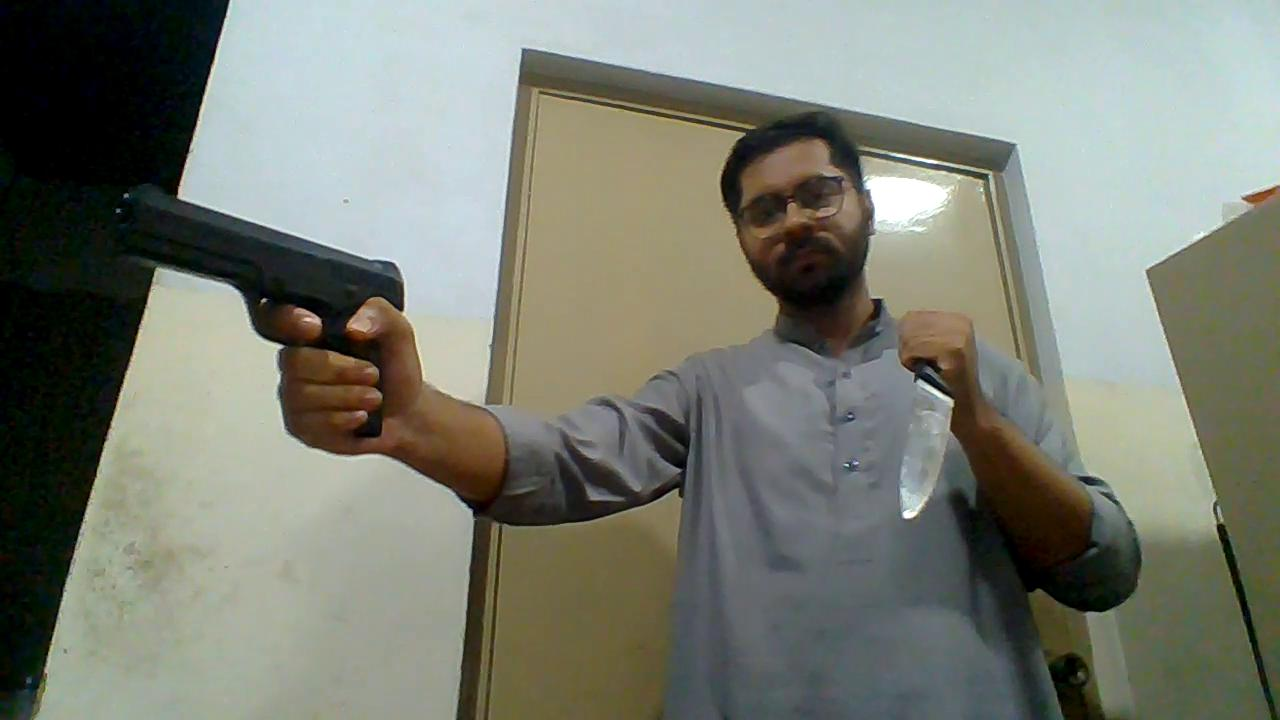criminal: (109, 110, 1142, 720)
weapon: (110, 177, 407, 442), (893, 359, 956, 526)
